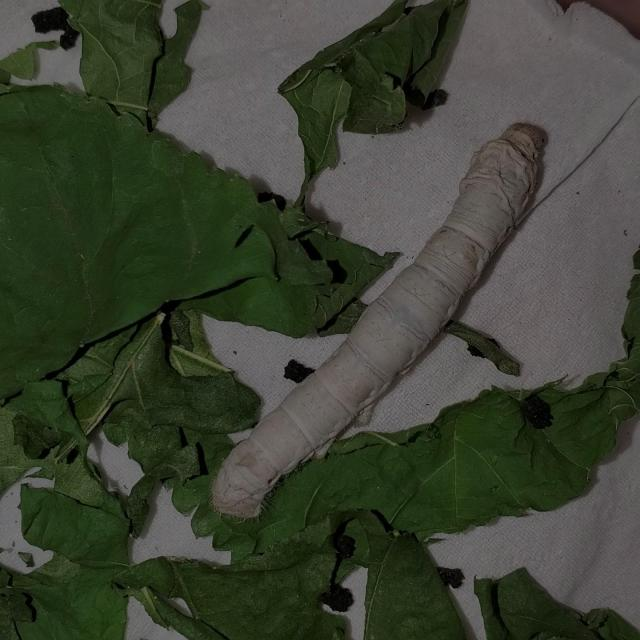Healthy: (178, 88, 573, 542)
